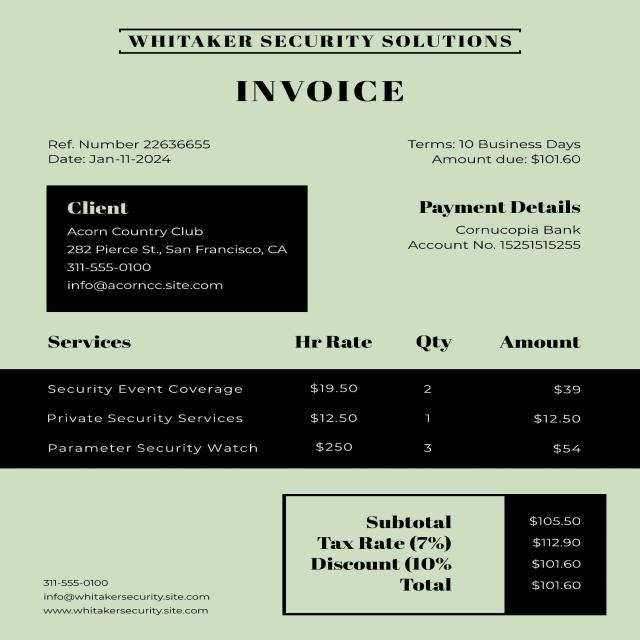paragraph: (276, 491, 616, 617), (31, 178, 331, 318), (116, 23, 522, 61), (391, 194, 592, 264), (26, 568, 232, 628), (397, 137, 601, 169), (32, 136, 222, 168), (228, 77, 410, 106)
table: (13, 330, 623, 476)
